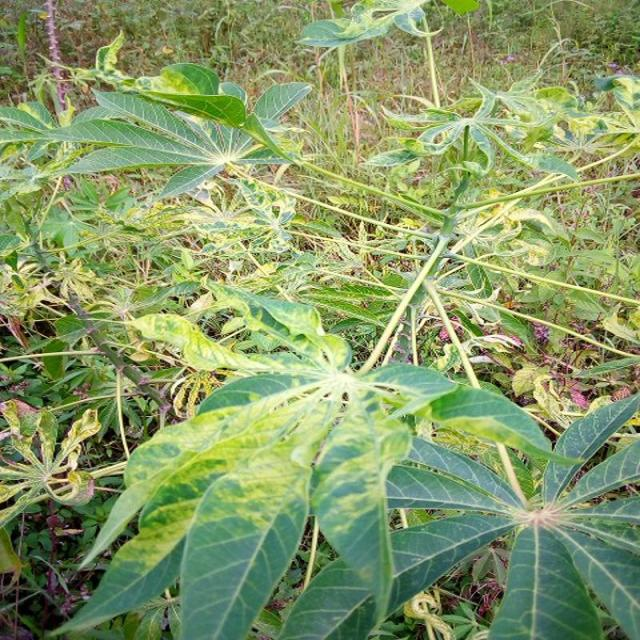cassava leaf: (52, 280, 638, 638)
